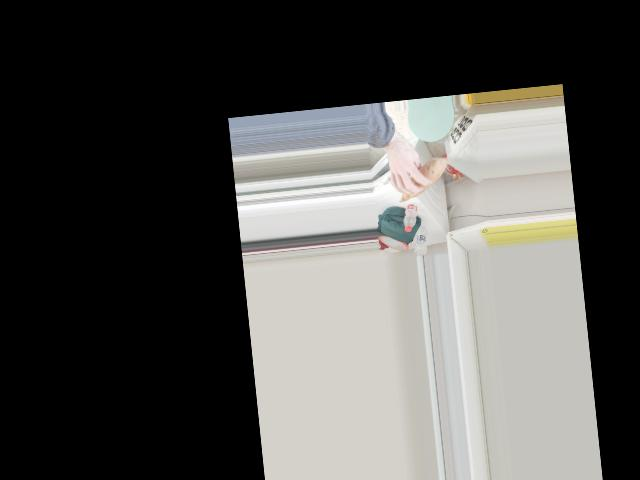sweet_potato: (391, 158, 447, 201)
